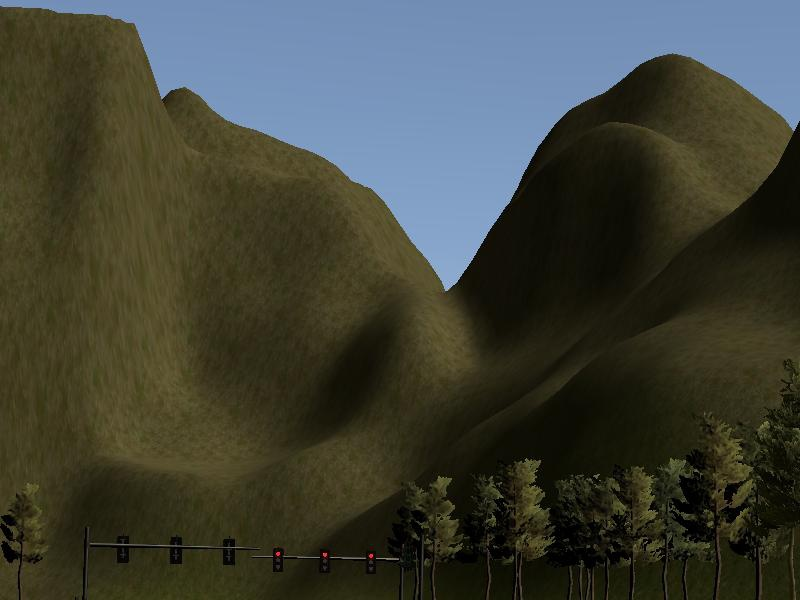red_light: (367, 551, 379, 574), (320, 549, 330, 572), (275, 548, 284, 569)
